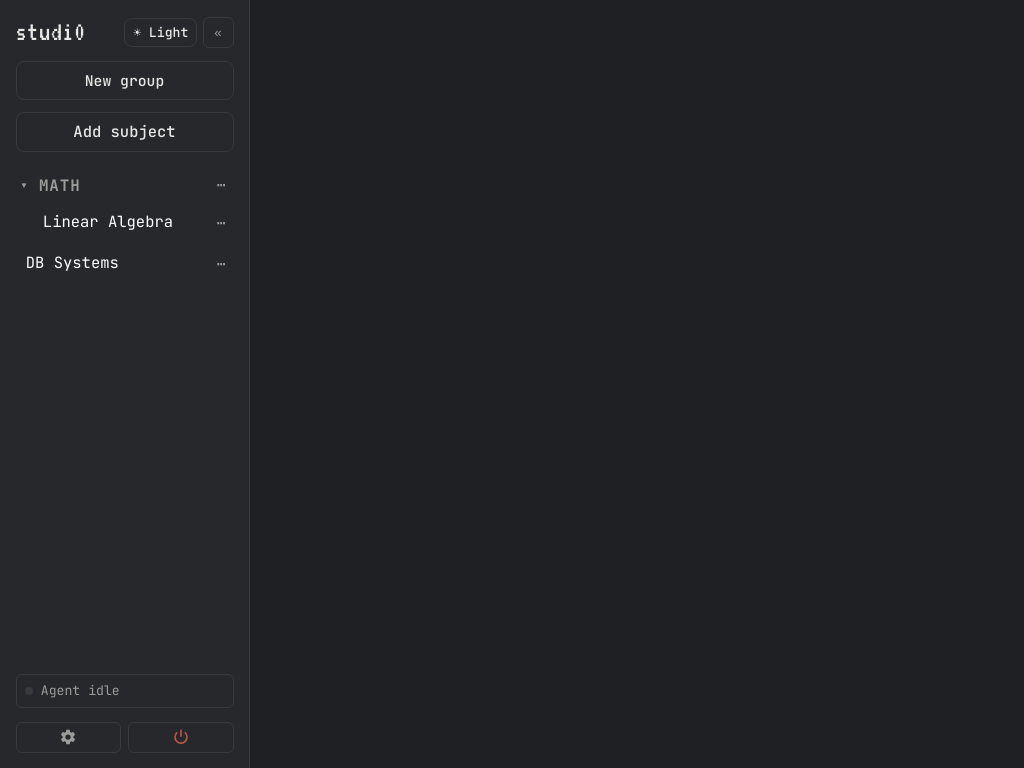
Test case: Sidebar groups and menus › warns that deleting a group ungroups its subjects
The width and height of the screenshot is (1024, 768).
Later steps or results of the test are not shown.
Click the button named "MATH options": click(221, 185) [209,178,234,193]
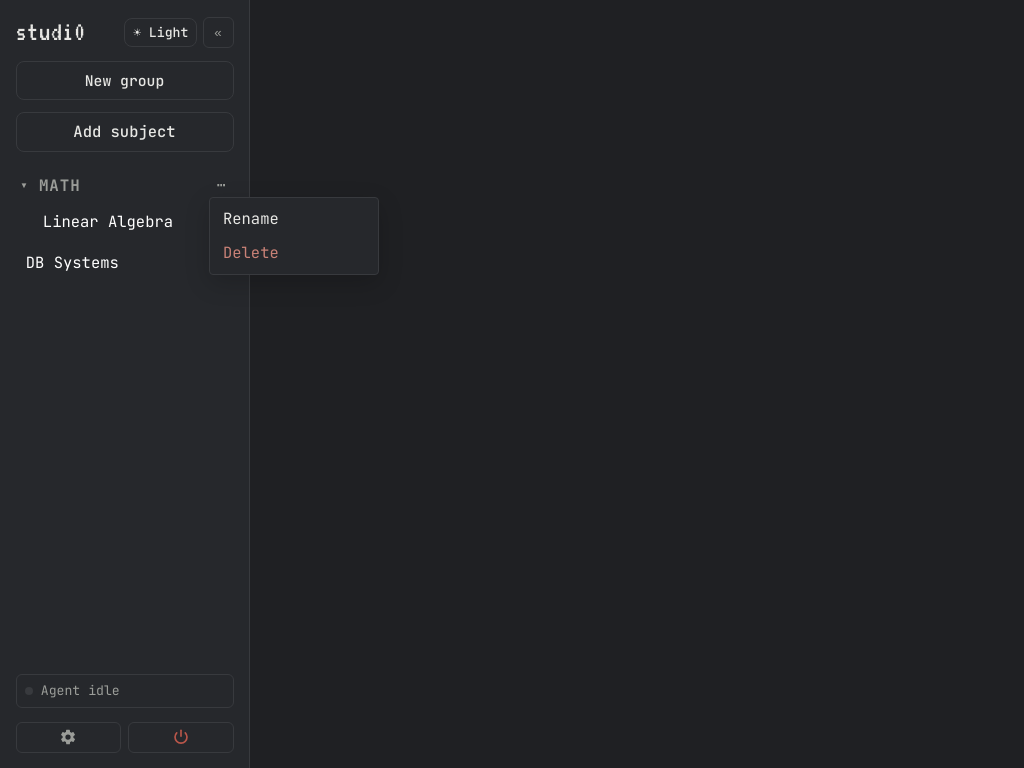
Click the menu item "Delete": click(294, 253) [214,236,374,270]
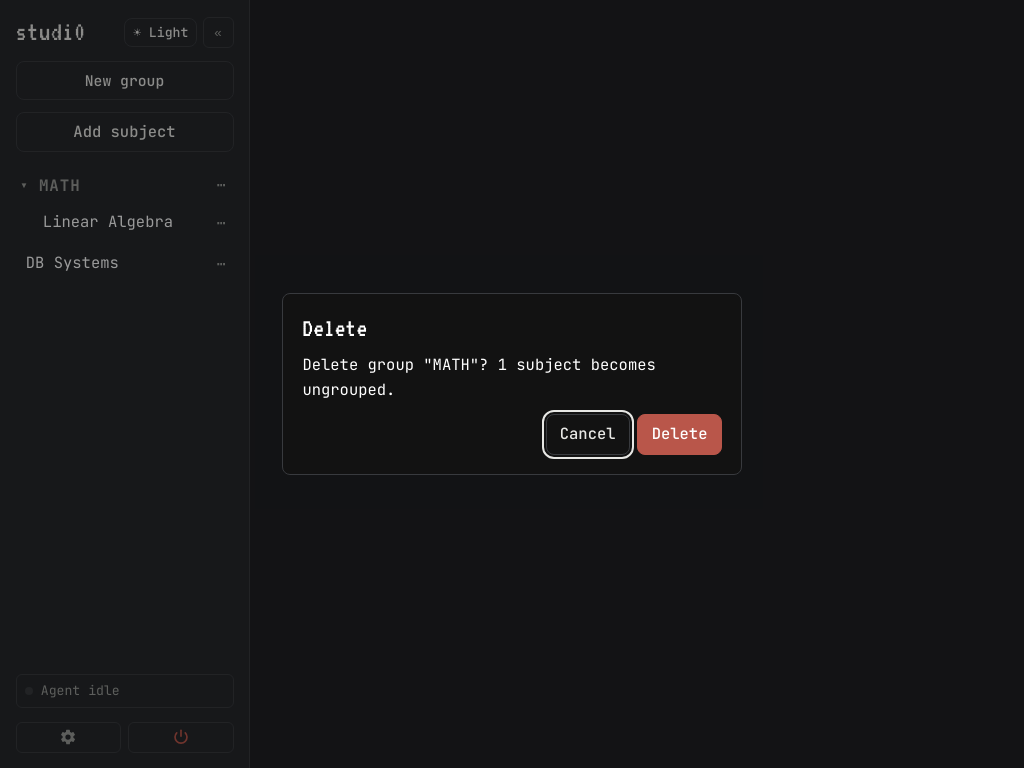
Expected: the dialog shows "1 subject becomes ungrouped", [302,354,656,400]
